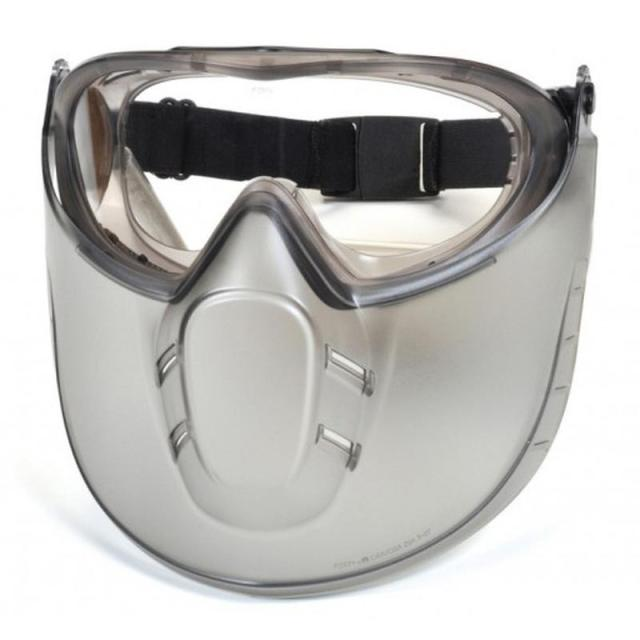Mask: (36, 12, 640, 607)
